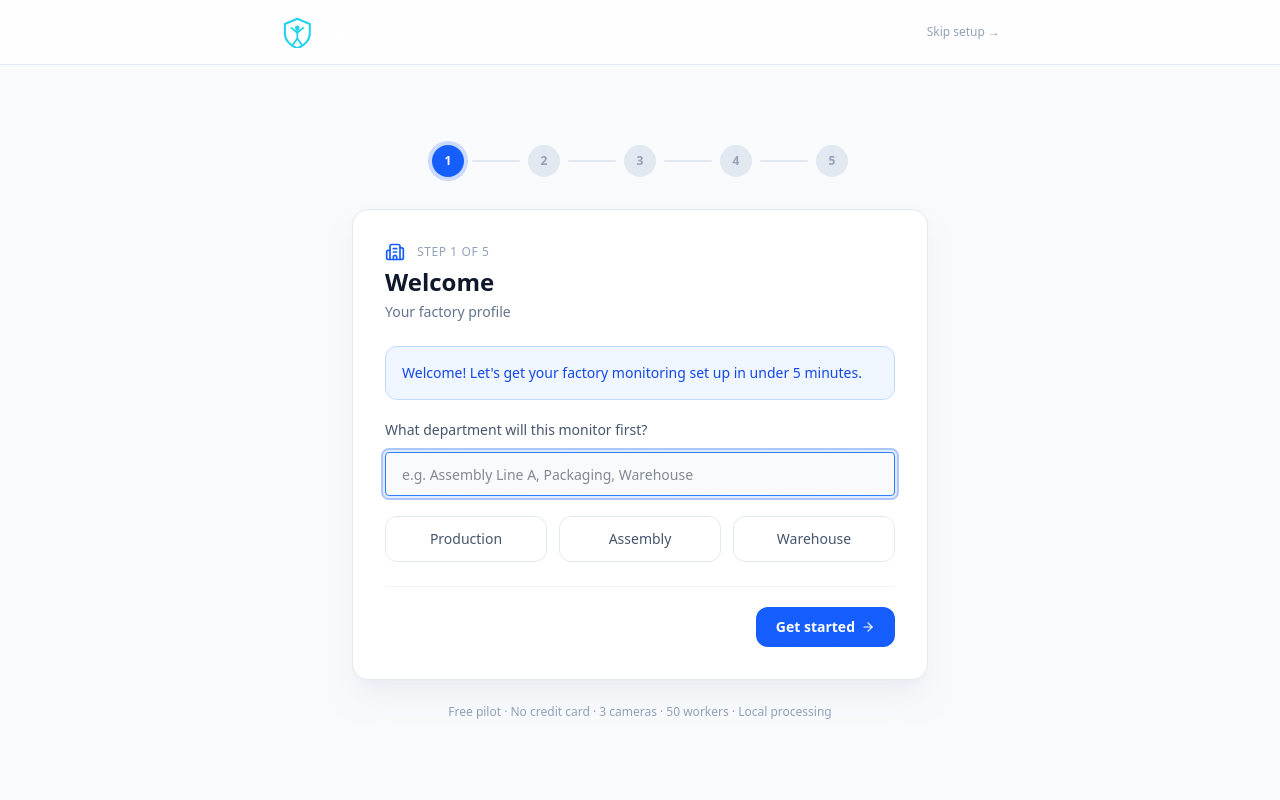
onboarding wizard › walks welcome → camera and remembers the chosen department
Expected: the heading "Welcome" is shown, x1=385 y1=265 x2=494 y2=298
Click the button "Assembly" at [640, 539], box x1=559 y1=516 x2=721 y2=562
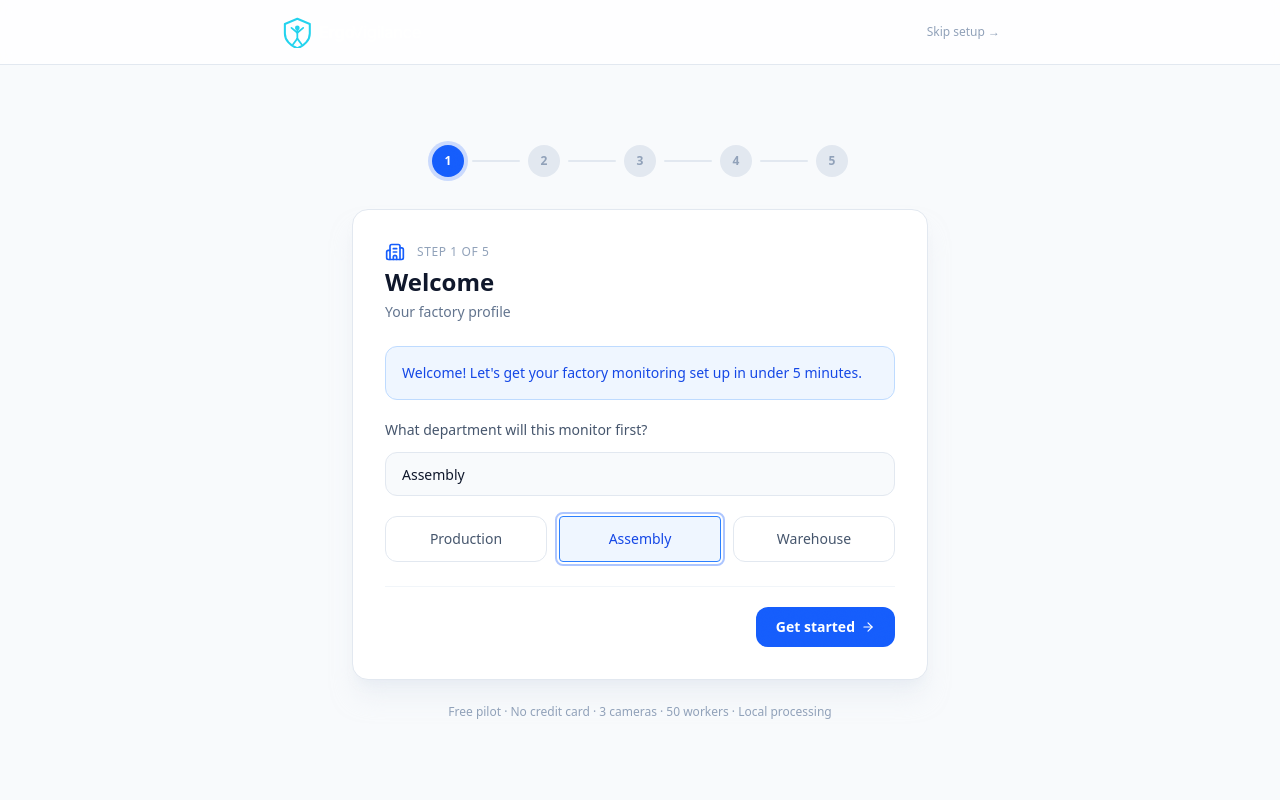
Click the button "Get started" at [825, 627], box x1=756 y1=607 x2=895 y2=647
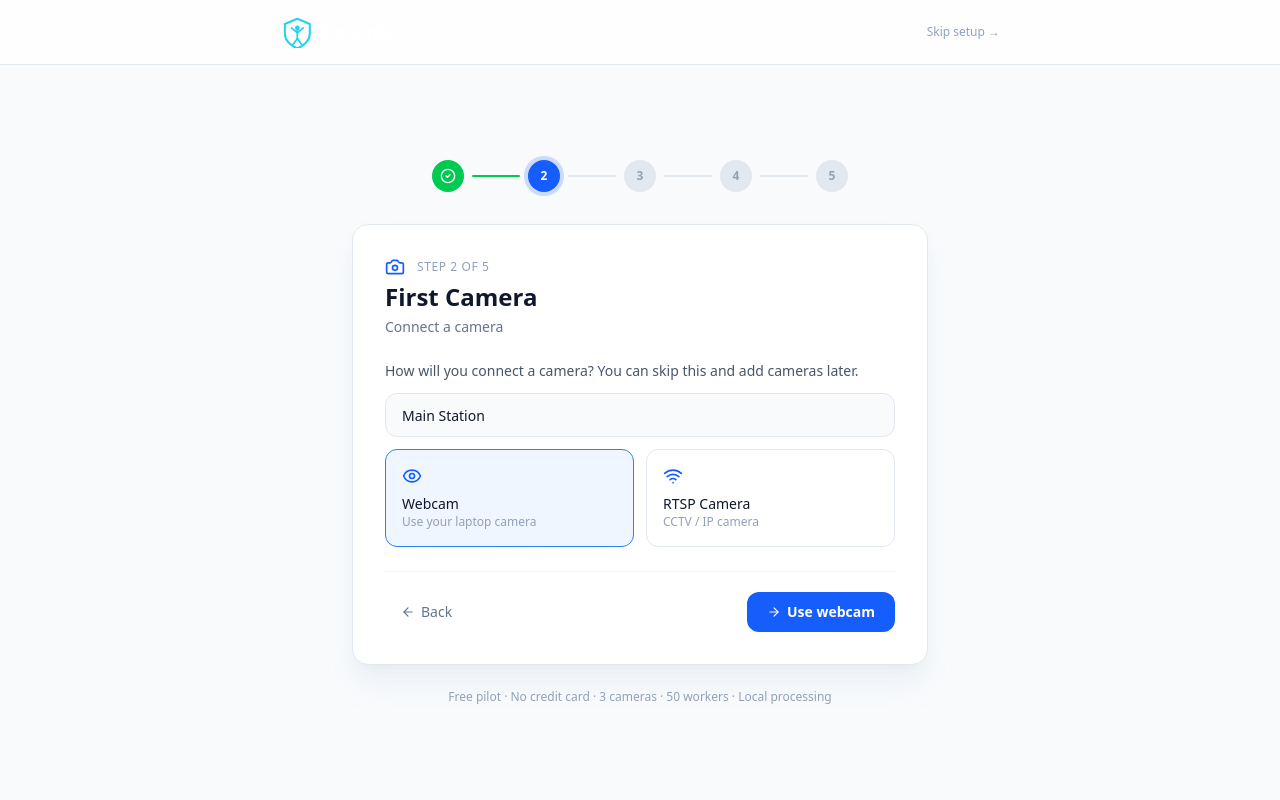
Expected: the heading "First Camera" is shown, x1=385 y1=280 x2=537 y2=313
Expected: the text "Step 2 of 5" is shown, x1=417 y1=259 x2=490 y2=275
